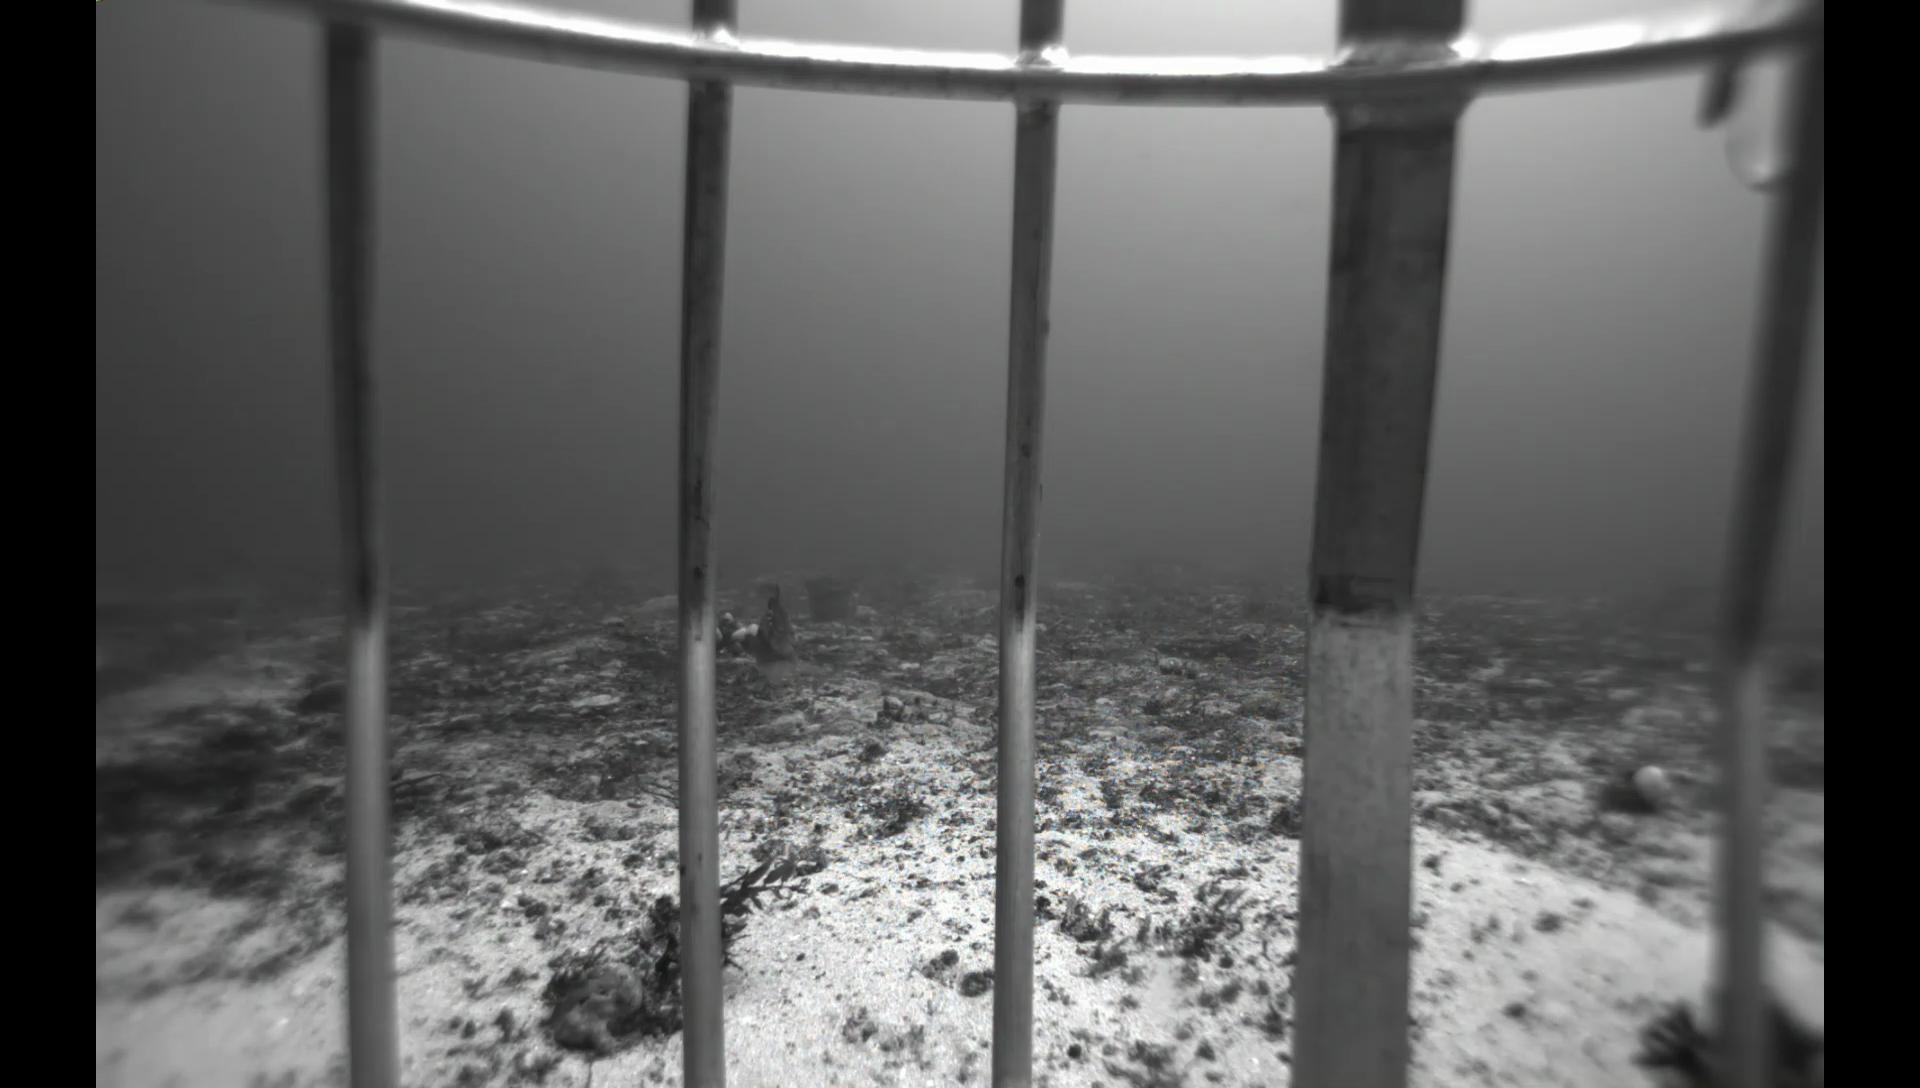CHAETODONOCELLATUS-170260307: (1160, 559, 1191, 582), (1097, 568, 1116, 586)
EPINEPHELUSMORIO-170021211: (727, 578, 806, 695)
HALICHOERESBIVITTATUS-170281202: (115, 662, 156, 692)
PRISTIGENYSALTA-170050401: (291, 677, 345, 717)
